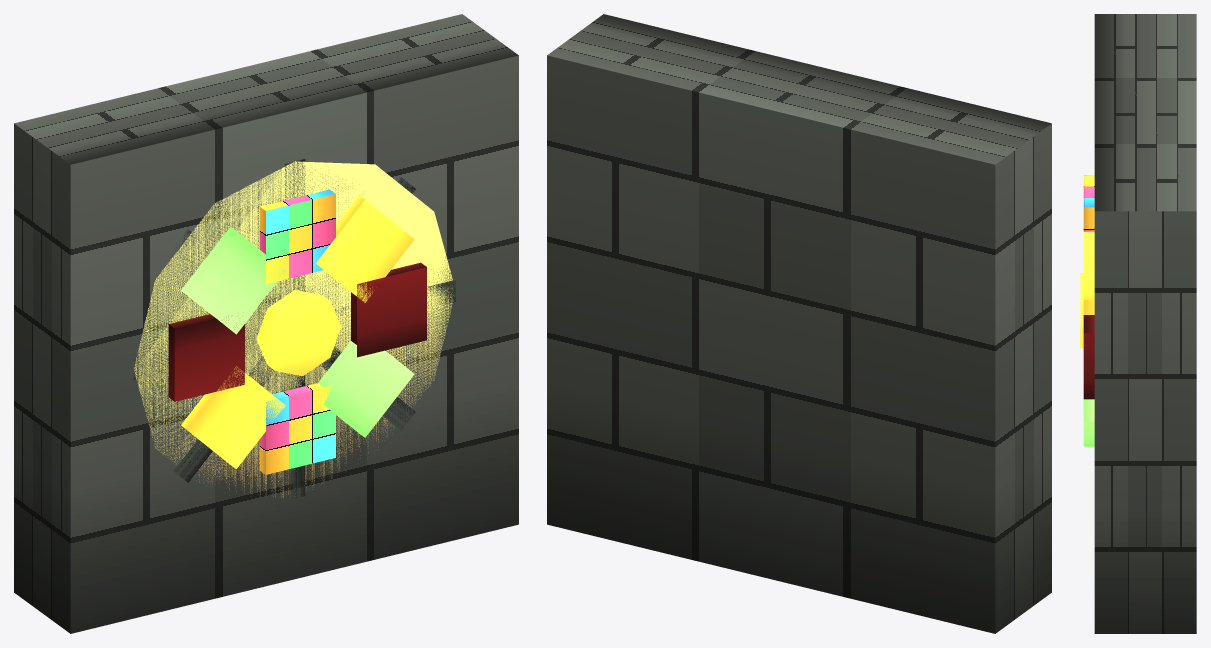
File: window_rose.gltf
The picture shows the model from 3 angles, left to right: view 1: azimuth 30°, elevation 25°; view 2: azimuth 150°, elevation 25°; view 3: azimuth 270°, elevation 25°; orthographic projection. The views are drawn at different scales.
Visible parts, largest first — view 1: window_rose; view 2: window_rose; view 3: window_rose.
Part boxes in pixels (x1=…): window_rose: x1=14, y1=14, x2=518, y2=633; window_rose: x1=547, y1=14, x2=1051, y2=633; window_rose: x1=1080, y1=14, x2=1196, y2=633.
Bounding box in the file's own units: 0.64 × 0.64 × 0.16.
1 material, 1 textured.
